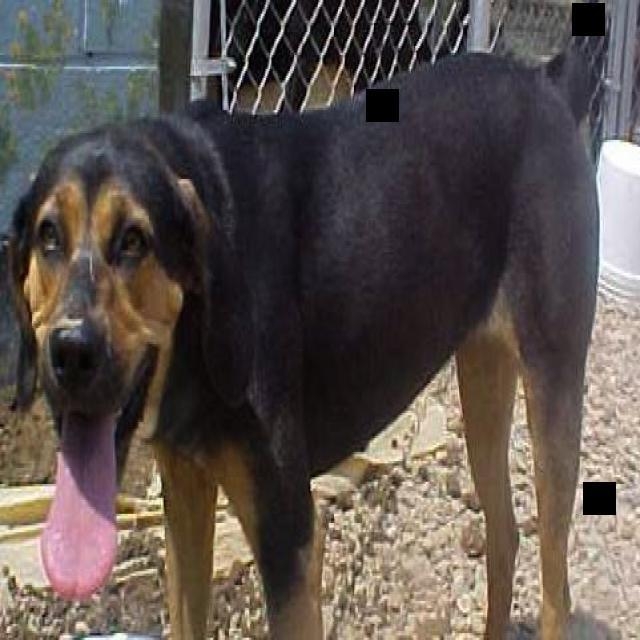adult_dog: (3, 4, 614, 640)
